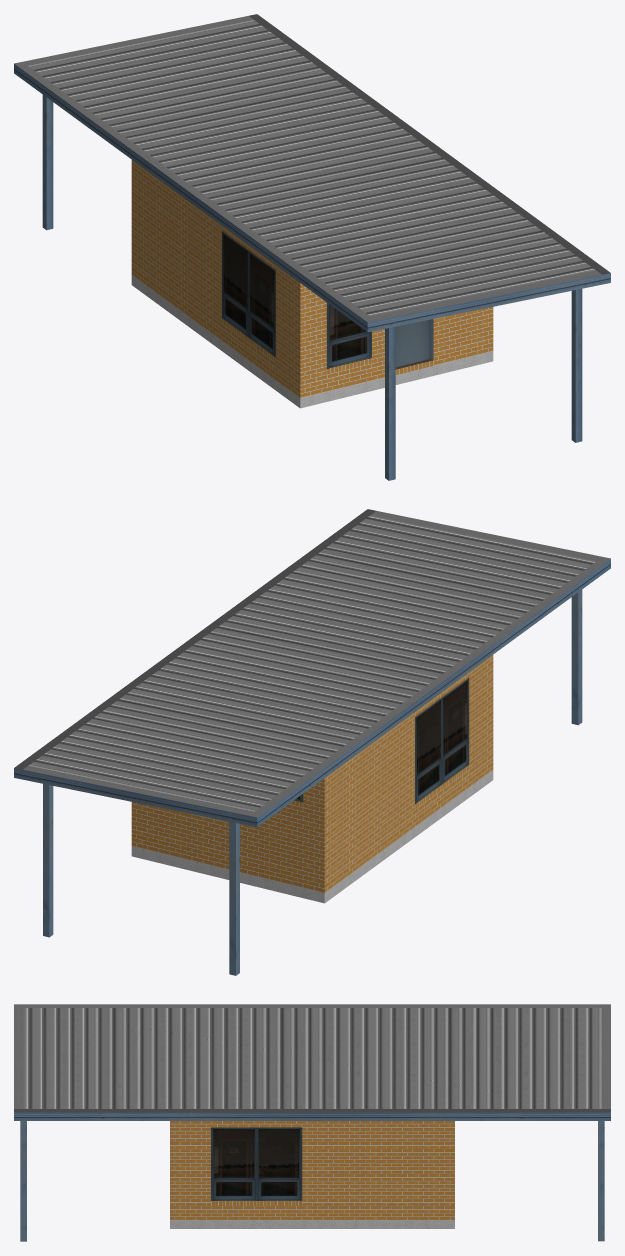
File: terminal-tiny-06-6x4-cbj_LOD00.gltf
3 views of the same model, one above another, from view 1: azimuth 30°, elevation 25°; view 2: azimuth 150°, elevation 25°; view 3: azimuth 270°, elevation 25° (orthographic). The views are drawn at different scales.
Visible parts, largest first — view 1: Cube; view 2: Cube; view 3: Cube.
Part boxes in pixels (box(x1,y1,x2,y2)): Cube: box(14, 14, 610, 480); Cube: box(14, 509, 610, 975); Cube: box(14, 1004, 610, 1241).
Size of the model in its own units: 5.16 by 3.55 by 13.
